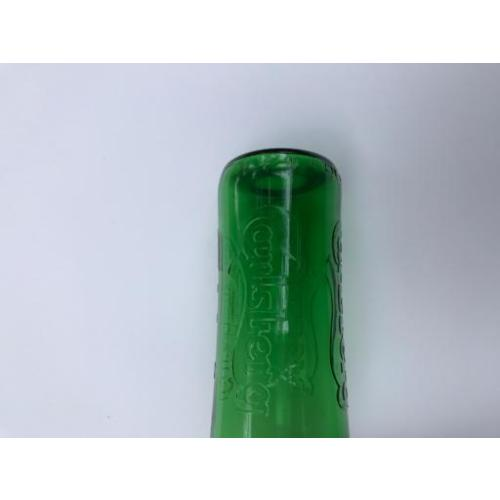glass: (214, 148, 343, 436)
